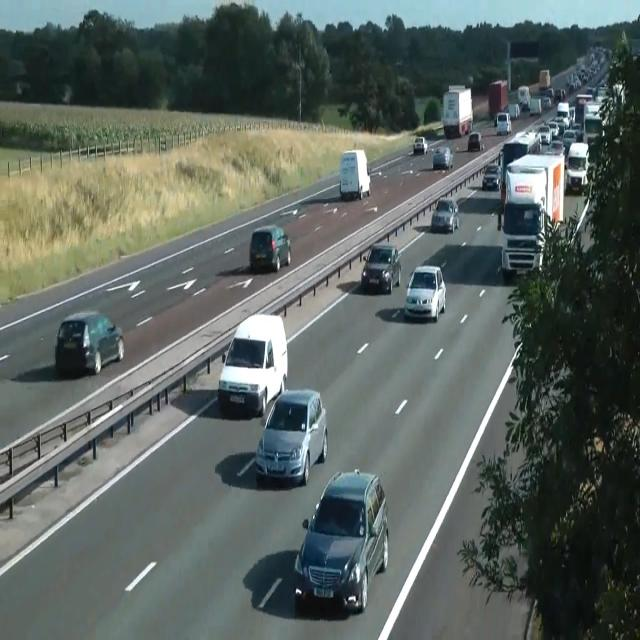bus: (54, 311, 124, 376), (404, 264, 446, 322), (361, 243, 401, 294), (249, 225, 291, 273), (431, 197, 459, 233), (482, 163, 500, 191), (433, 146, 453, 170), (494, 111, 512, 135), (503, 102, 521, 119), (468, 132, 484, 151), (538, 124, 552, 145), (413, 136, 427, 155), (16, 81, 30, 95), (541, 95, 551, 109)
car: (494, 48, 624, 278)
jeep: (294, 468, 388, 614), (217, 313, 287, 416), (255, 388, 328, 486), (565, 141, 589, 191)
minibus: (499, 152, 565, 277), (498, 130, 542, 214), (339, 148, 371, 201), (443, 84, 473, 138), (488, 79, 508, 117), (517, 86, 531, 110), (538, 69, 550, 91)
